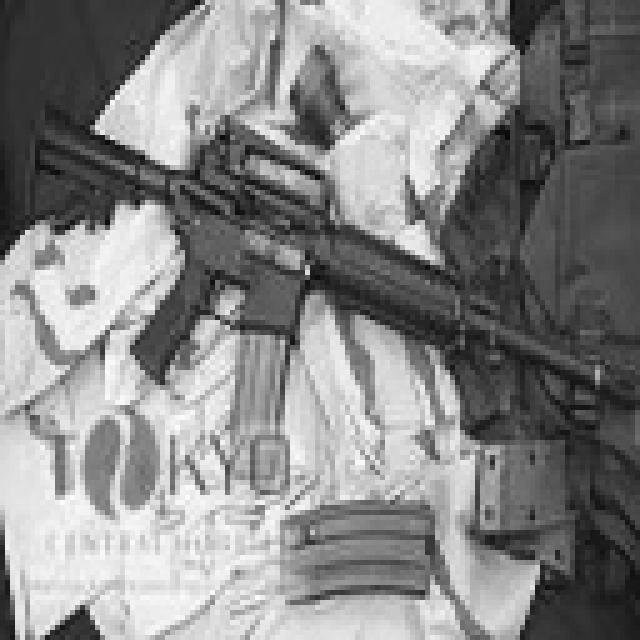Rifle: (0, 0, 640, 491)
